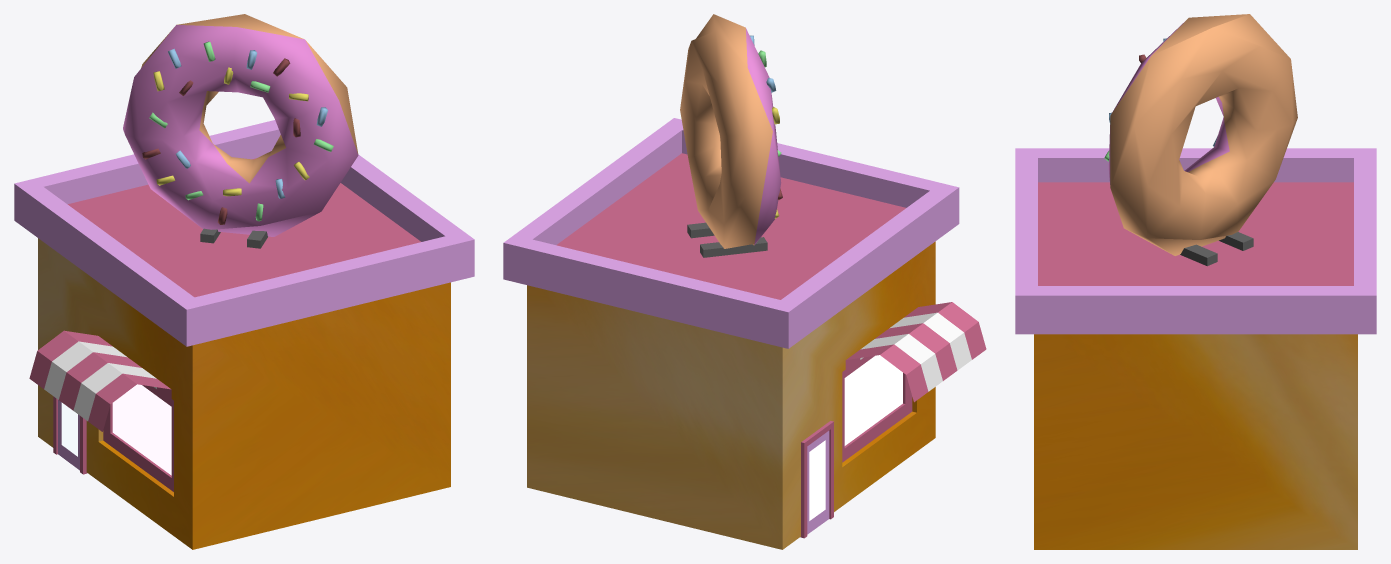
Rendered from Donut Shop.fbx.
3 views of the same model, side by side, from view 1: azimuth 30°, elevation 25°; view 2: azimuth 150°, elevation 25°; view 3: azimuth 270°, elevation 25° (orthographic). The views are drawn at different scales.
Parts seen in each view (by area): view 1: Cube.017; view 2: Cube.017; view 3: Cube.017.
Boxes of the visible parts, left/top/right/bottom form: Cube.017: left=14, top=14, right=474, bottom=549; Cube.017: left=503, top=14, right=986, bottom=549; Cube.017: left=1015, top=14, right=1376, bottom=549.
Size of the model in its own units: 1540 by 1890 by 1339.
Materials: 13 (1 with a texture image).
